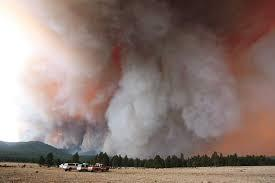smoke: (14, 1, 275, 148)
